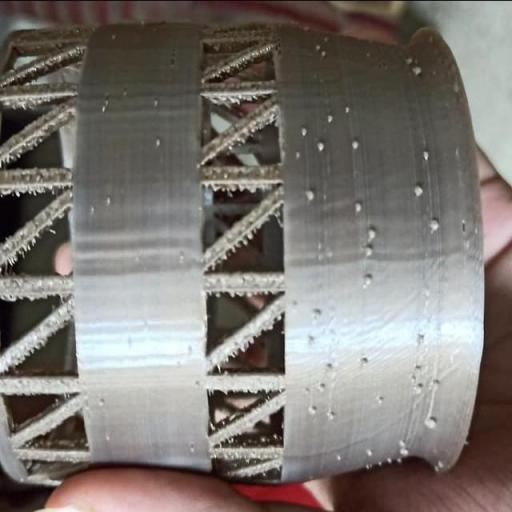blobs: (421, 412, 439, 432), (412, 180, 428, 200), (428, 214, 442, 236), (397, 437, 411, 459), (304, 187, 320, 205), (410, 62, 426, 80), (309, 302, 325, 320), (298, 122, 312, 142), (100, 193, 114, 212), (366, 224, 382, 240), (419, 145, 434, 161), (316, 138, 330, 154), (361, 271, 377, 285), (362, 241, 376, 257), (425, 376, 441, 390), (150, 135, 164, 150), (348, 137, 362, 152), (322, 360, 336, 375), (340, 102, 353, 118), (416, 328, 429, 344), (353, 200, 367, 214), (365, 444, 377, 459), (308, 400, 320, 414), (319, 377, 329, 392), (325, 114, 337, 124), (416, 380, 426, 392)
